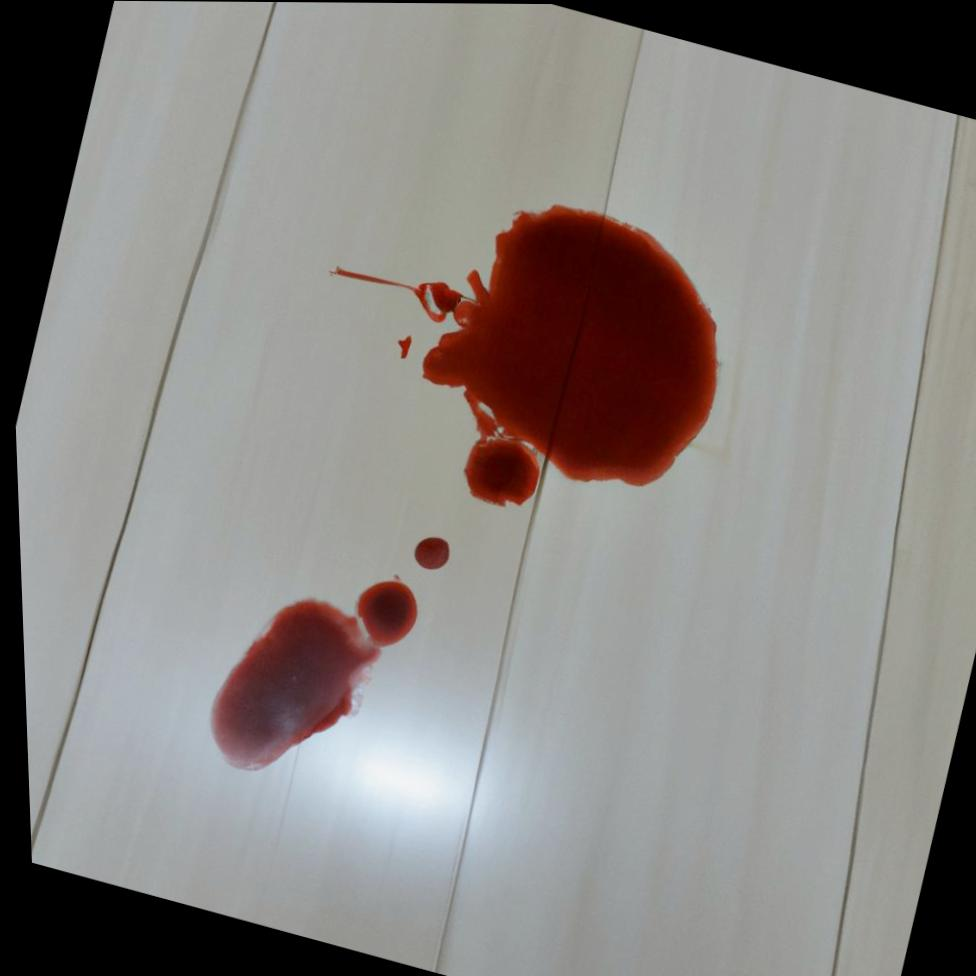Fire: (326, 203, 716, 505), (203, 574, 413, 770), (410, 536, 446, 569)
